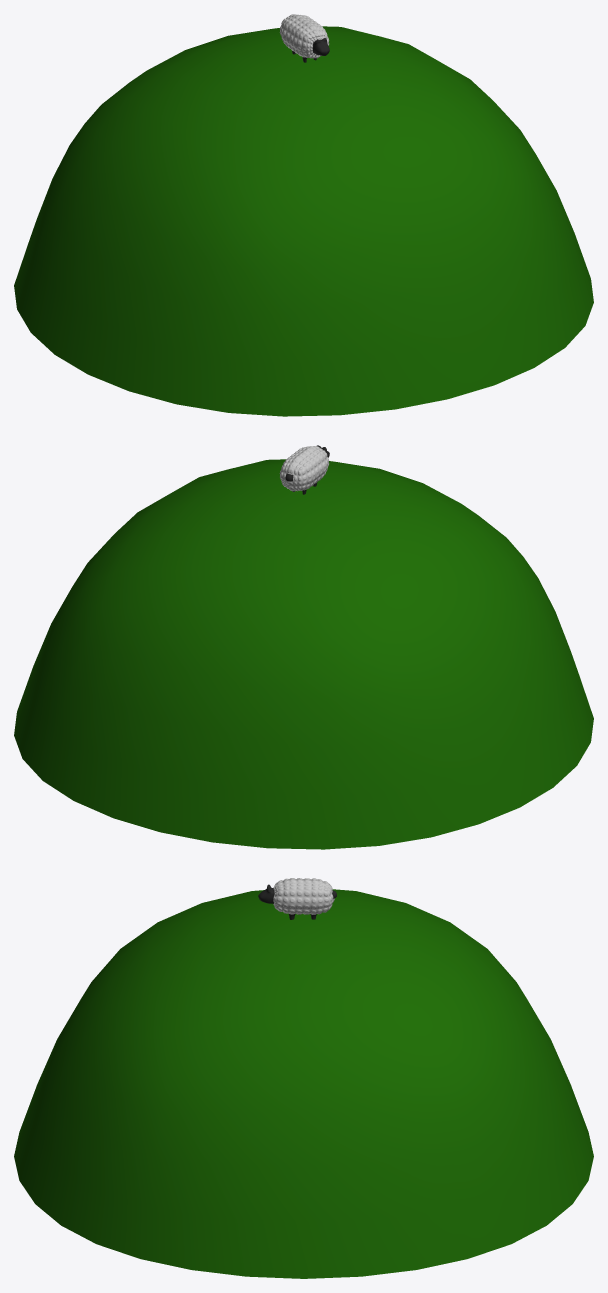
Rendered from Sheep.fbx.
3 renders of one model, top to bottom at view 1: azimuth 30°, elevation 25°; view 2: azimuth 150°, elevation 25°; view 3: azimuth 270°, elevation 25°, orthographic.
Visible parts, largest first — view 1: Plane, Sheep; view 2: Plane, Sheep; view 3: Plane, Sheep.
Boxes of the visible parts, bbox=[...] form: Plane: bbox=[14, 26, 593, 416]; Sheep: bbox=[279, 14, 329, 62]; Plane: bbox=[14, 459, 593, 849]; Sheep: bbox=[279, 445, 329, 494]; Plane: bbox=[14, 889, 593, 1278]; Sheep: bbox=[258, 878, 336, 919].
Bounding box in the file's own units: 2721 × 1433 × 2721.
